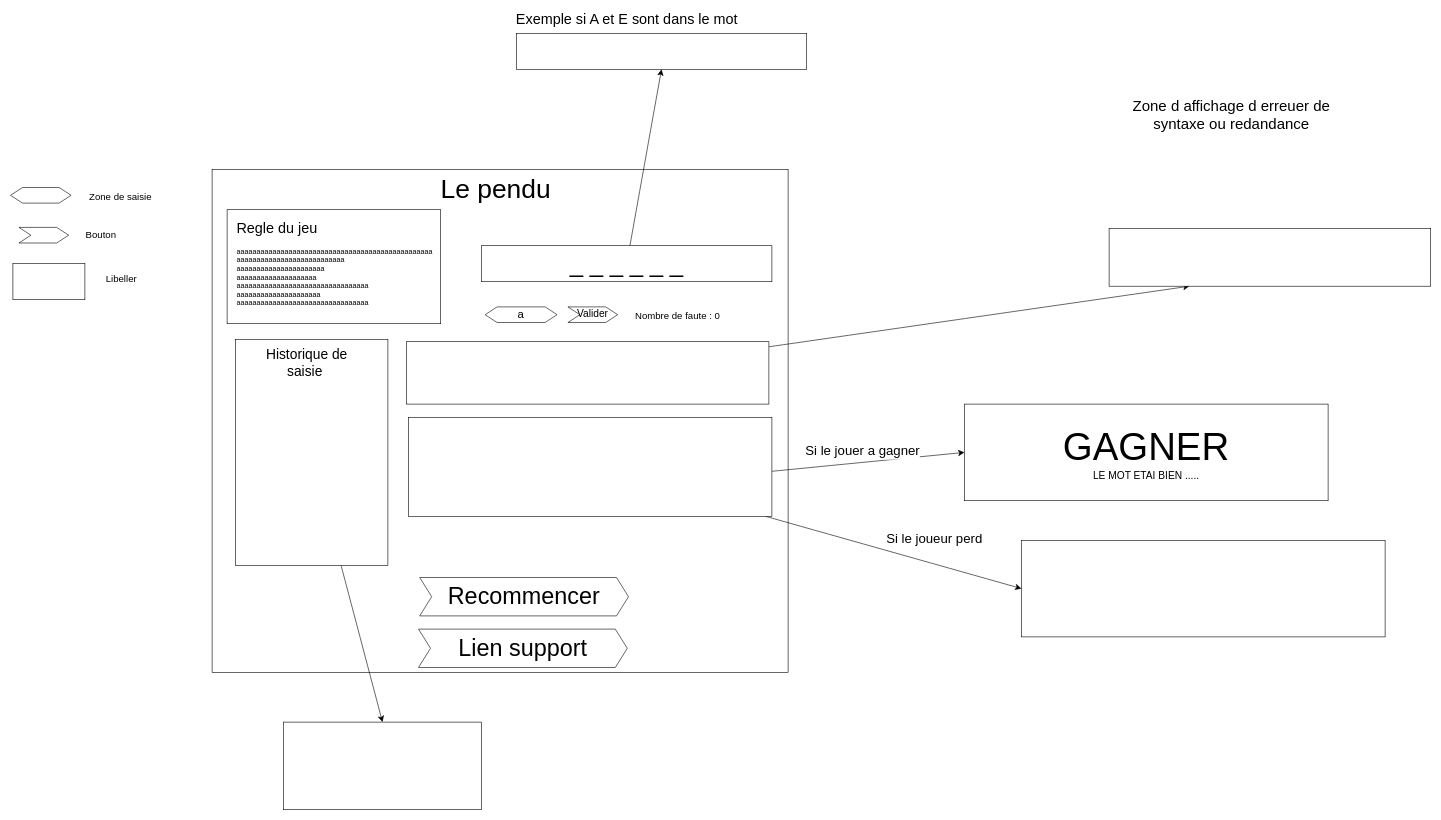
The diagram is 1441 pixels wide and 820 high, and some of its shapes have lost their labels. The shapes that lost their labels are listed below. From the top down, each one's centre as x and y in pixels, then its label:
pixel 661 51: _ _ A _ _ E
pixel 1269 257: - Caractaire non autoriser - lettre déja utlisé
pixel 1203 588: PERDUE LE MOT ETAI .....
pixel 382 766: N affiche que les lettre saisie qui sont faux
